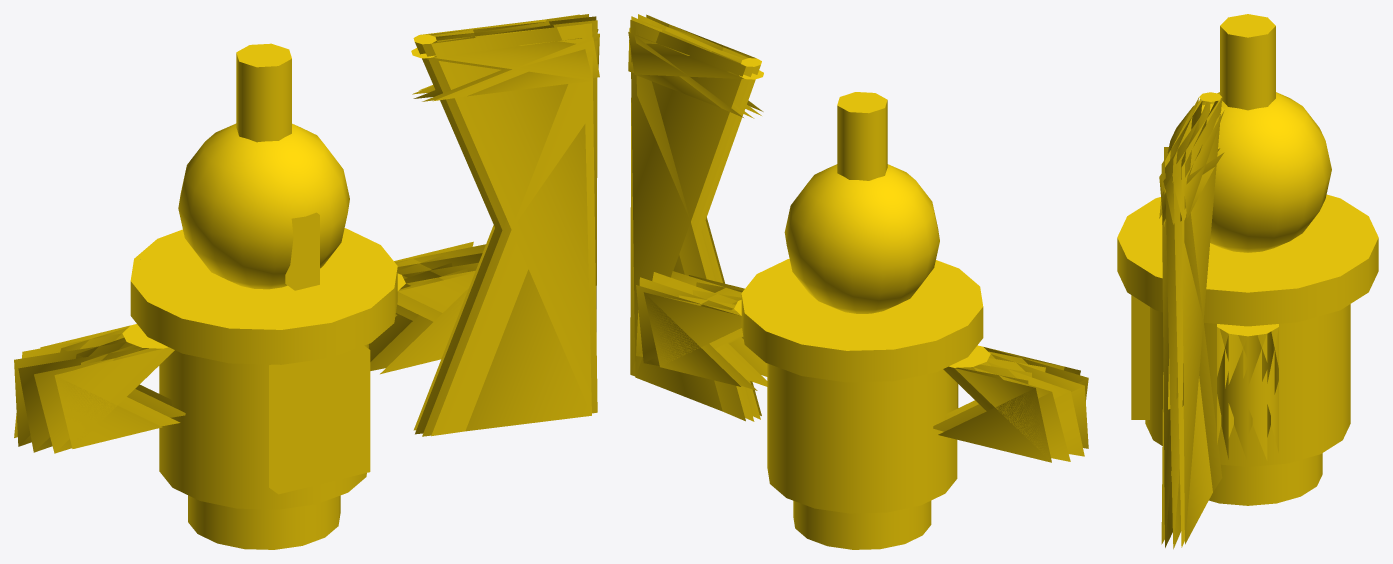
Rendered from french_blue_knight.obj.
The picture shows the model from 3 angles, left to right: view 1: azimuth 30°, elevation 25°; view 2: azimuth 150°, elevation 25°; view 3: azimuth 270°, elevation 25°; orthographic projection. The views are drawn at different scales.
Parts seen in each view (by area): view 1: french_blue_knight; view 2: french_blue_knight; view 3: french_blue_knight.
Boxes of the visible parts, left/top/right/bottom form: french_blue_knight: left=14, top=14, right=599, bottom=549; french_blue_knight: left=628, top=14, right=1088, bottom=549; french_blue_knight: left=1117, top=14, right=1378, bottom=549.
Bounding box in the file's own units: 1.3 × 1.06 × 0.56.
1 material, 1 textured.
